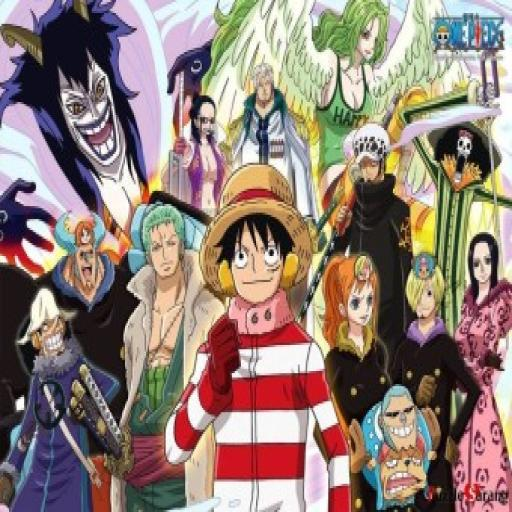Luffy: (212, 156, 306, 311)
Nami: (313, 256, 384, 342)
NicoRobin: (466, 230, 500, 304)
Usopp: (23, 278, 73, 366)
Zoro: (138, 195, 192, 285)
sanji: (394, 260, 448, 330)
